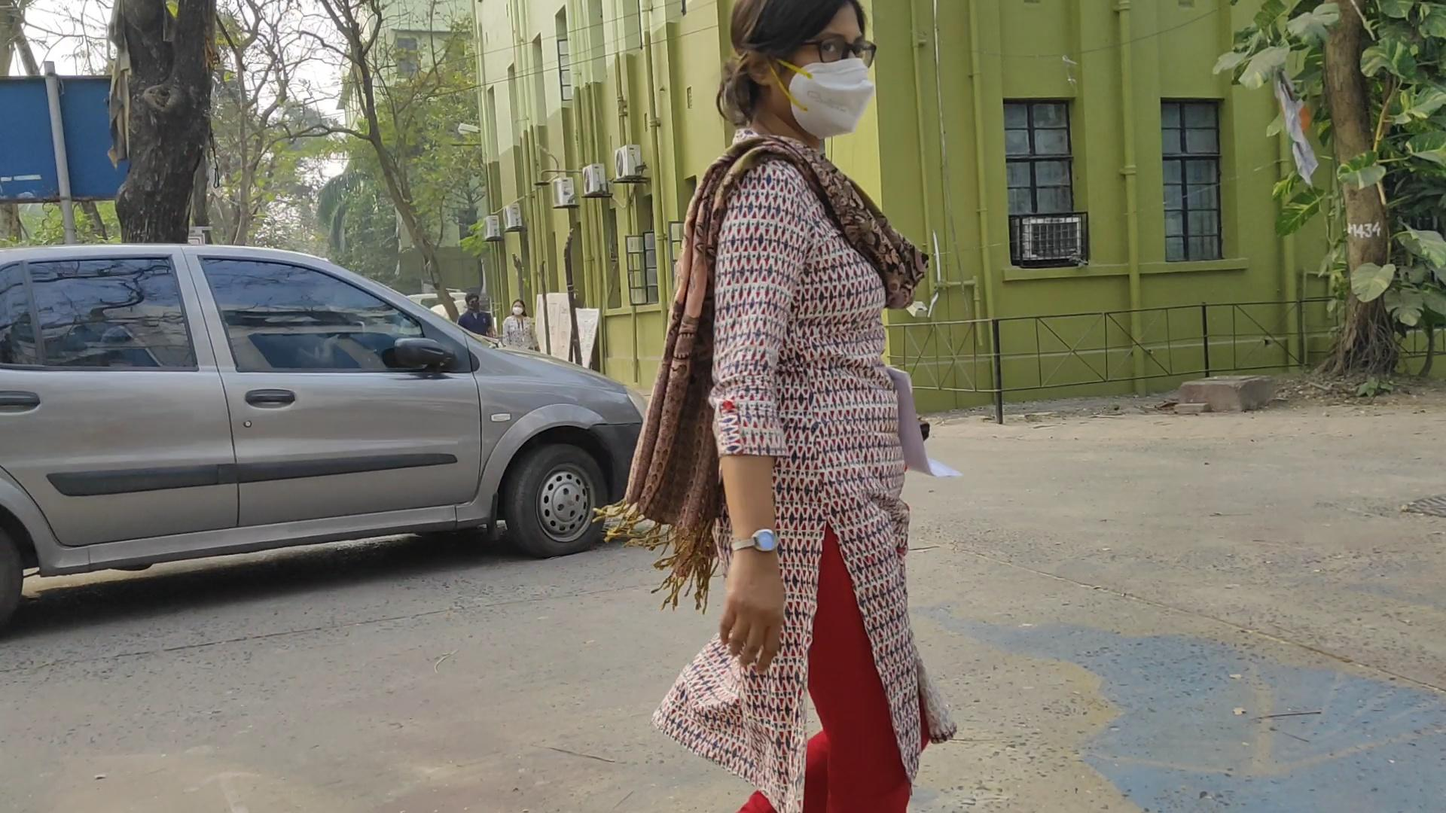car: (1, 245, 654, 628)
